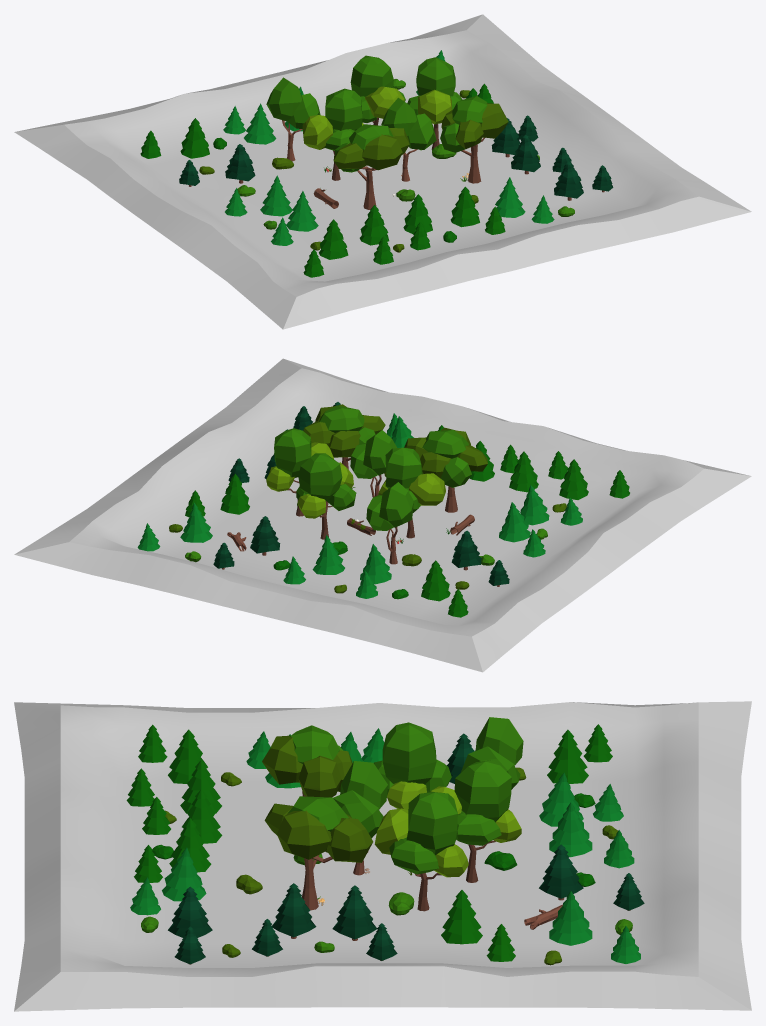
Rendered from Woodland_MiniGame.fbx.
3 views of the same model, one above another, from view 1: azimuth 30°, elevation 25°; view 2: azimuth 150°, elevation 25°; view 3: azimuth 270°, elevation 25° (orthographic). The views are drawn at different scales.
Visible parts, largest first — view 1: Environment1; view 2: Environment1; view 3: Environment1.
Part boxes in pixels (x1,y1,x2,y2): Environment1: (14, 14, 751, 329); Environment1: (14, 358, 751, 672); Environment1: (14, 701, 751, 1011).
Bounding box in the file's own units: 69.87 × 12.84 × 69.42.
